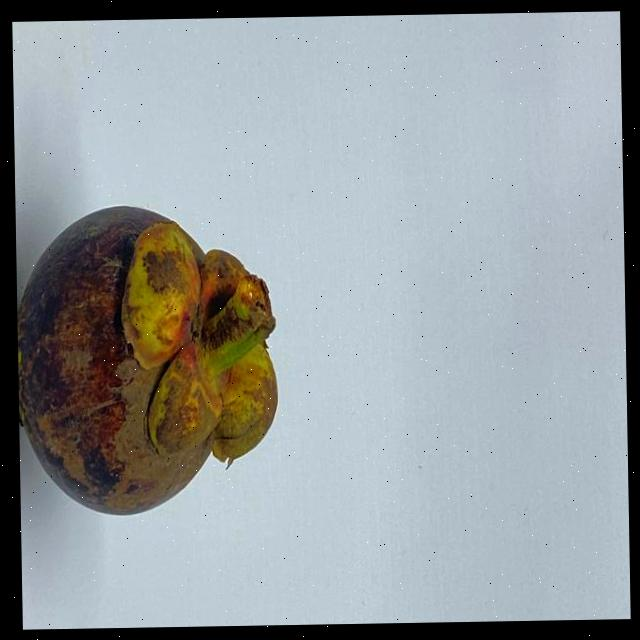mangosteen: (14, 172, 314, 535)
